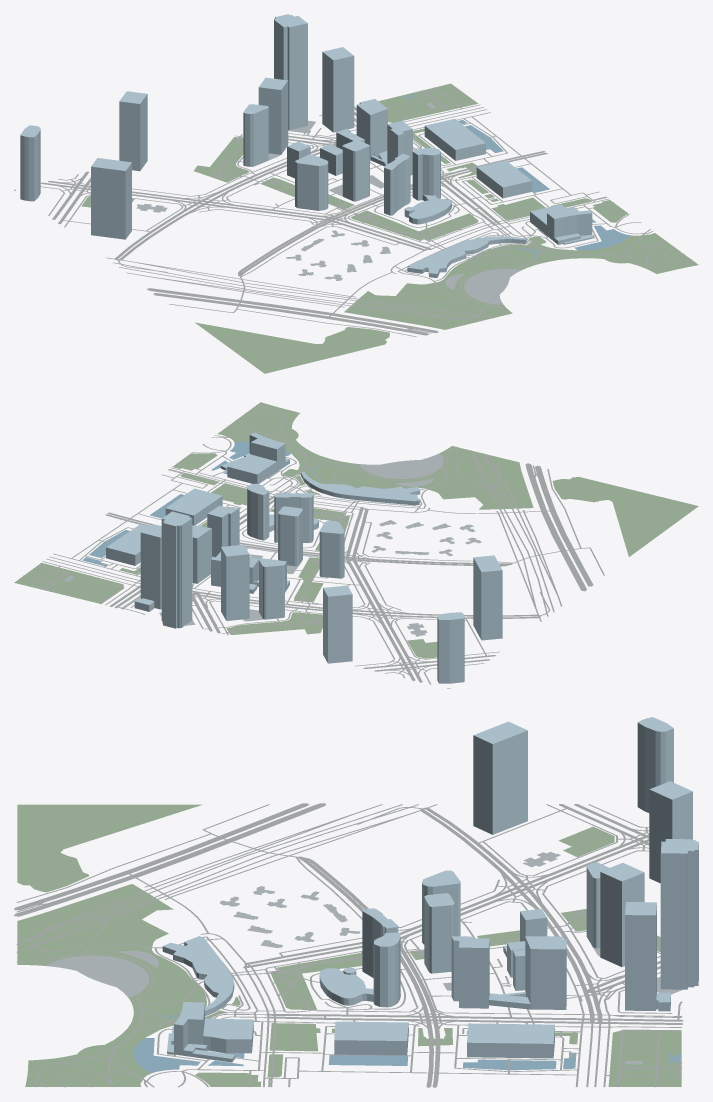
File: -16_1-known-coarse.glb
3 views of the same model, one above another, from view 1: azimuth 30°, elevation 25°; view 2: azimuth 150°, elevation 25°; view 3: azimuth 270°, elevation 25° (orthographic). The views are drawn at different scales.
Bounding box in the file's own units: 1014 × 225 × 1026.
